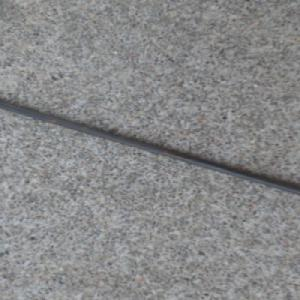LuggagePart: (0, 97, 300, 193)
